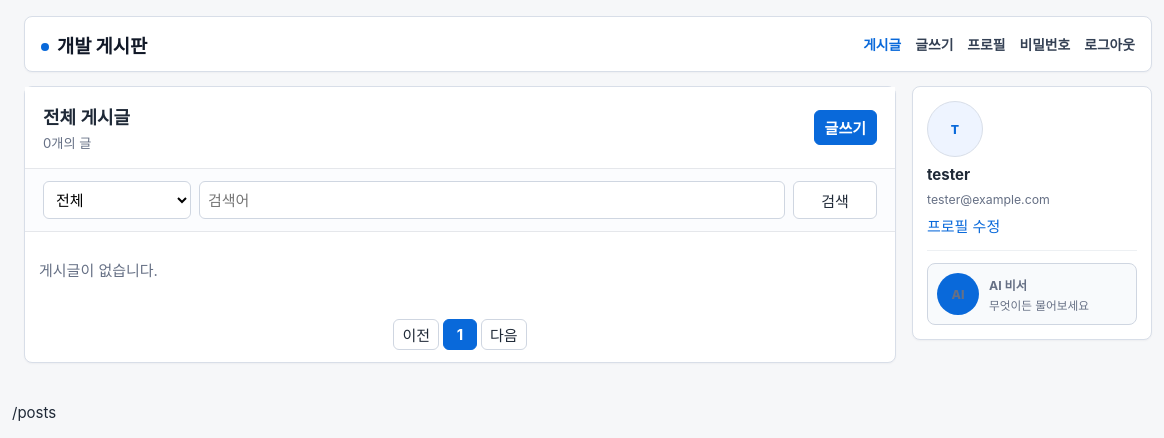
인증 폼 › 로그인 토큰이 있으면 프로필과 로그아웃 버튼을 보여준다
Expected: the text "tester" is shown, x1=927 y1=165 x2=970 y2=184
Click the button "로그아웃".
click(1110, 44)  # box x1=1084 y1=25 x2=1135 y2=63
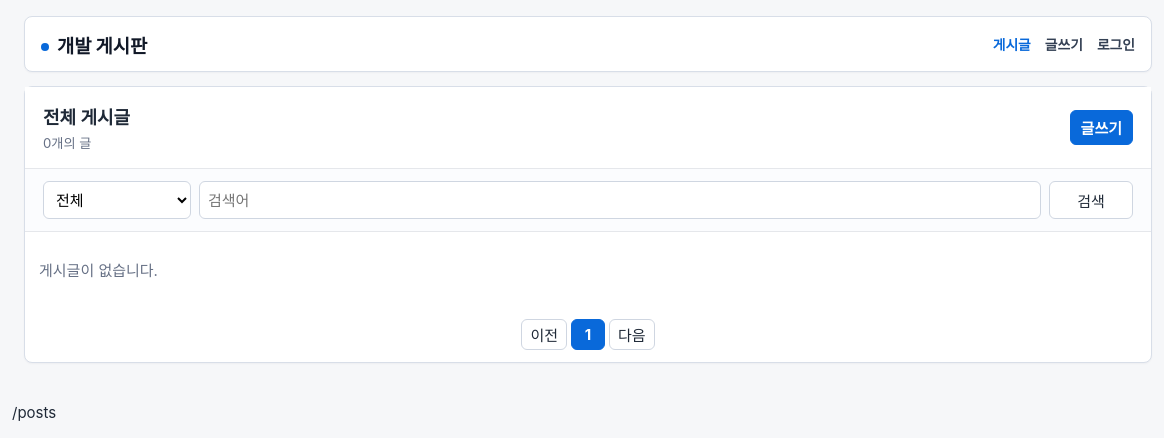
Result: the link "로그인" is shown at x1=1097 y1=37 x2=1135 y2=53
